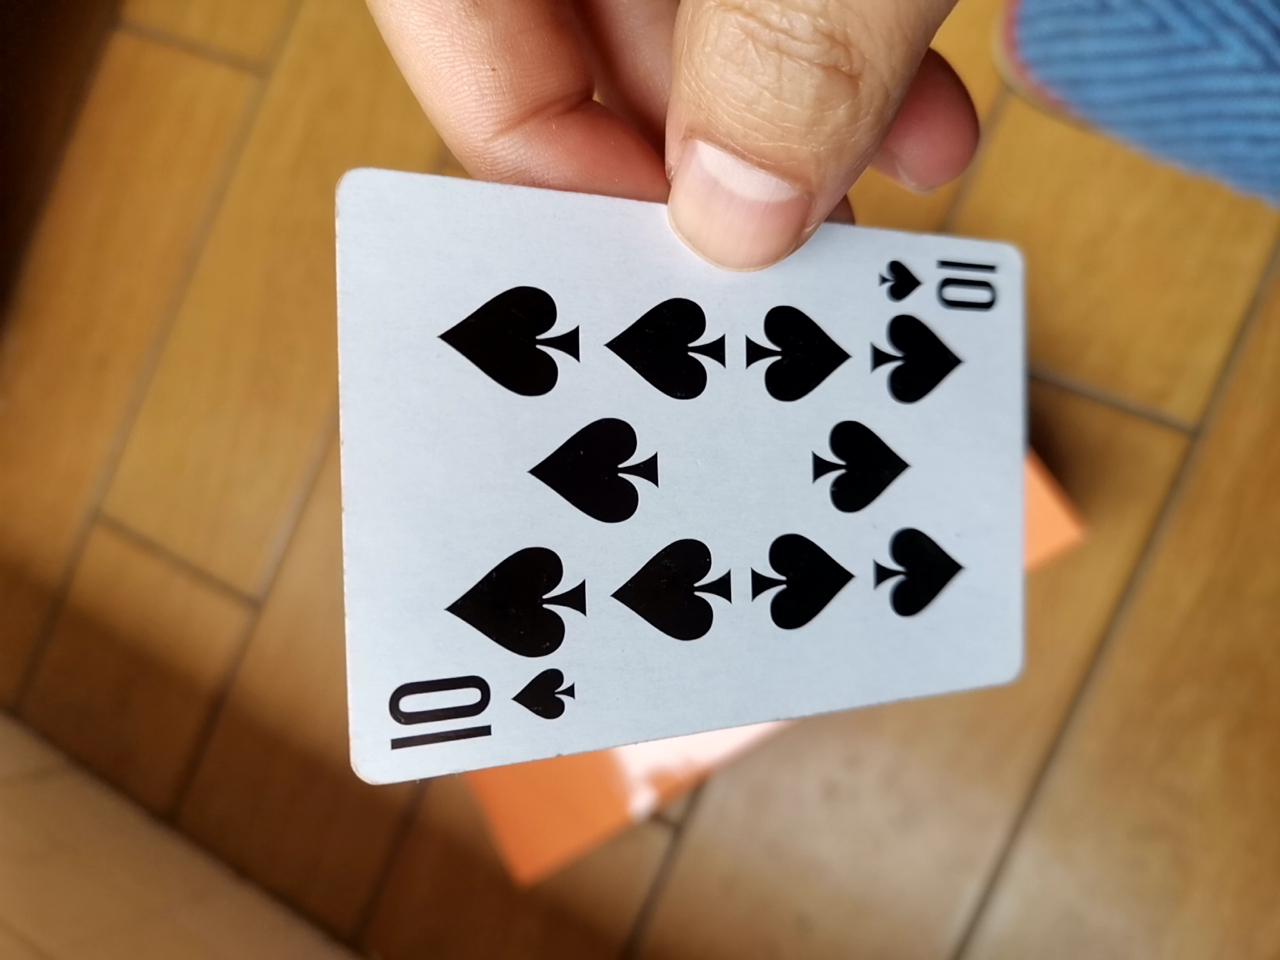ht 10: (318, 179, 1026, 799)
